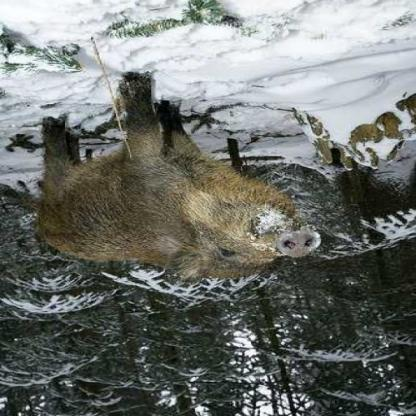boar: (32, 69, 338, 309)
